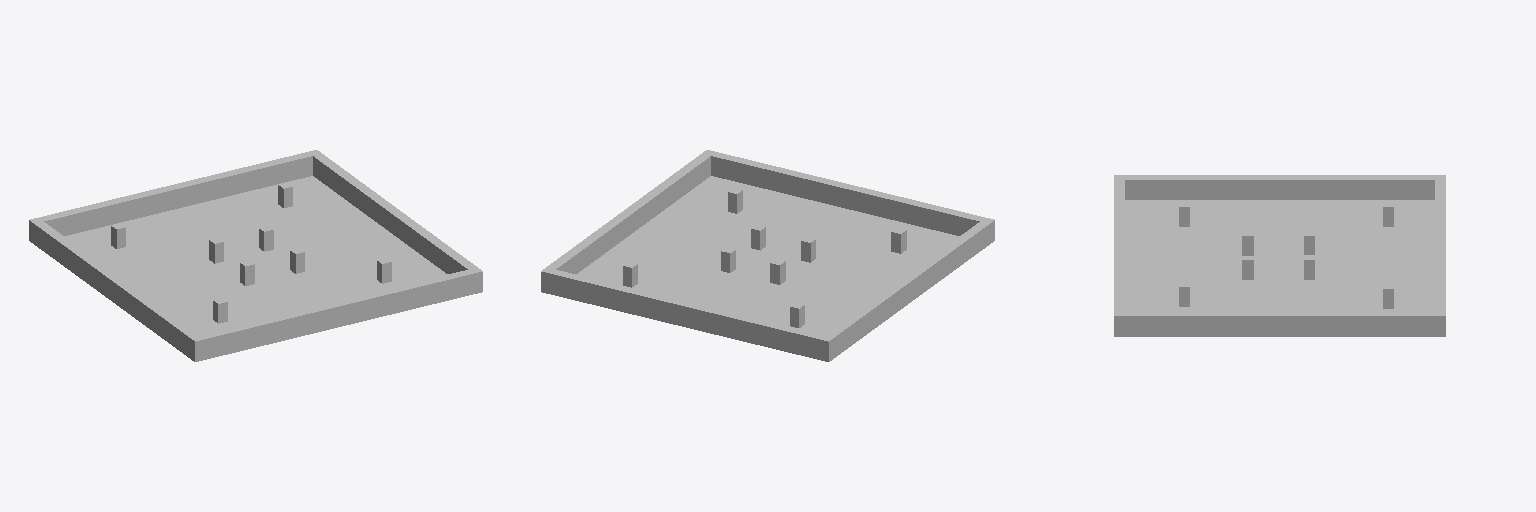
File: pruebasFisicas.obj
3 renders of one model, left to right at view 1: azimuth 30°, elevation 25°; view 2: azimuth 150°, elevation 25°; view 3: azimuth 270°, elevation 25°, orthographic.
Parts seen in each view (by area): view 1: Cube.001, Cube.003, Cube.002, Cube.004_Cube.006, Cube.005_Cube.007; view 2: Cube.001, Cube.002, Cube.003, Cube.004_Cube.006, Cube.005_Cube.007; view 3: Cube.001, Cube.004_Cube.006, Cube.005_Cube.007, Cube.002, Cube.003.
Boxes of the visible parts, <box> form: Cube.001: <box>30,176,481,361</box>; Cube.003: <box>190,267,482,360</box>; Cube.002: <box>29,150,321,242</box>; Cube.004_Cube.006: <box>34,222,197,357</box>; Cube.005_Cube.007: <box>313,154,476,273</box>; Cube.001: <box>542,176,994,361</box>; Cube.002: <box>541,267,833,360</box>; Cube.003: <box>702,150,994,242</box>; Cube.004_Cube.006: <box>826,222,989,356</box>; Cube.005_Cube.007: <box>547,154,710,273</box>; Cube.001: <box>1114,200,1445,336</box>; Cube.004_Cube.006: <box>1125,175,1434,199</box>; Cube.005_Cube.007: <box>1125,311,1434,335</box>; Cube.002: <box>1435,175,1445,335</box>; Cube.003: <box>1114,175,1124,335</box>.
Bounding box in the file's own units: 60 × 4.13 × 60.